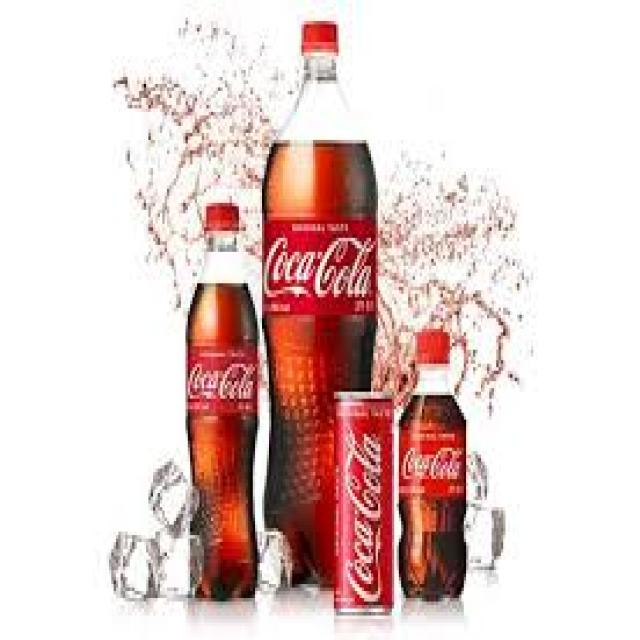Coca-Cola: (333, 385, 396, 619)
